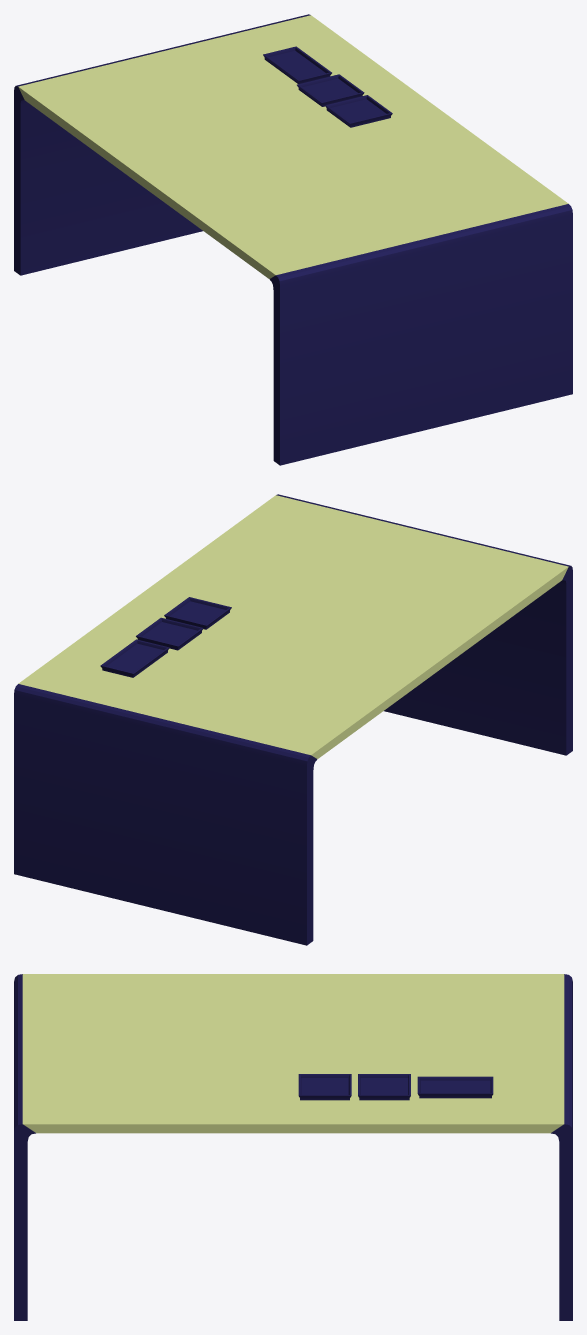
The model's file is Bedroom_Table.fbx.
3 renders of one model, top to bottom at view 1: azimuth 30°, elevation 25°; view 2: azimuth 150°, elevation 25°; view 3: azimuth 270°, elevation 25°, orthographic. The views are drawn at different scales.
Visible parts, largest first — view 1: Table, TableGlass; view 2: Table, TableGlass; view 3: TableGlass, Table.
Part boxes in pixels (x1,y1,x2,y2): Table: (14, 14, 572, 465); TableGlass: (18, 15, 568, 278); Table: (14, 494, 572, 945); TableGlass: (18, 495, 568, 758); TableGlass: (22, 974, 564, 1133); Table: (14, 974, 572, 1320).
Size of the model in its own units: 75 by 118 by 47.17.
